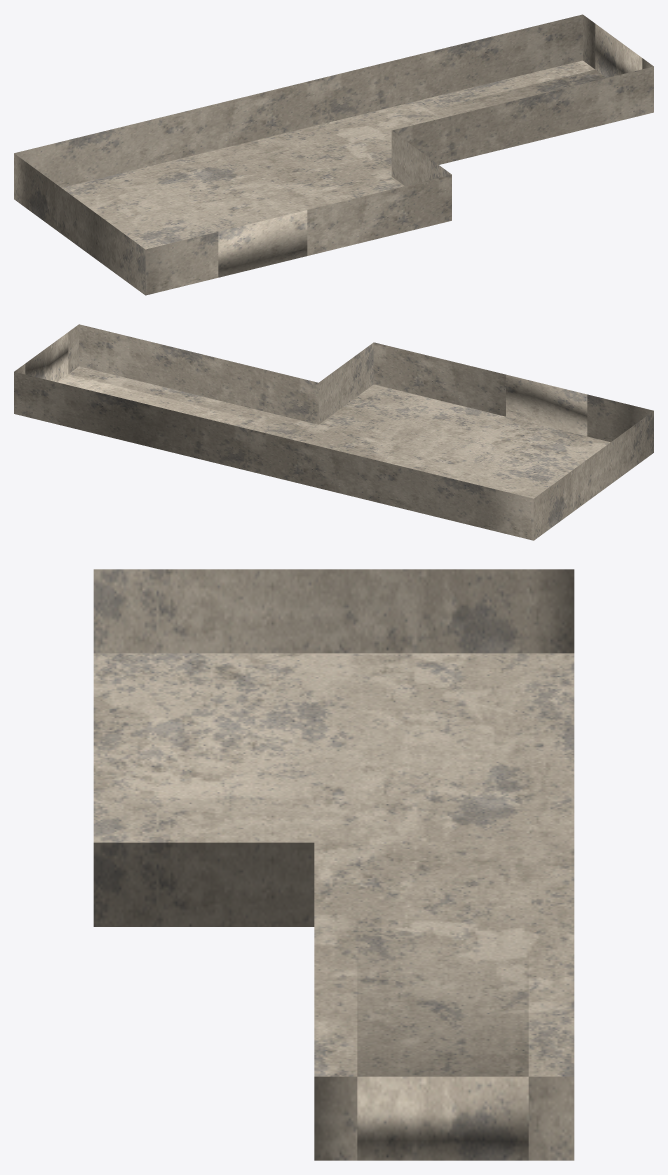
File: Fundatie.obj
3 renders of one model, top to bottom at view 1: azimuth 30°, elevation 25°; view 2: azimuth 150°, elevation 25°; view 3: azimuth 270°, elevation 25°, orthographic. The views are drawn at different scales.
Visible parts, largest first — view 1: Iarba_Plane.017; view 2: Iarba_Plane.017; view 3: Iarba_Plane.017.
Boxes of the visible parts, <box> form: Iarba_Plane.017: <box>14,14,653,295</box>; Iarba_Plane.017: <box>14,324,653,540</box>; Iarba_Plane.017: <box>93,569,574,1160</box>.
Bounding box in the file's own units: 434 × 33.56 × 174.
